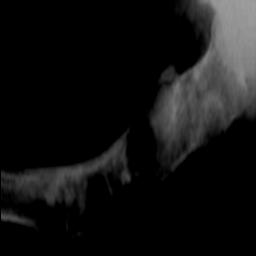cancer: (0, 46, 248, 245)
